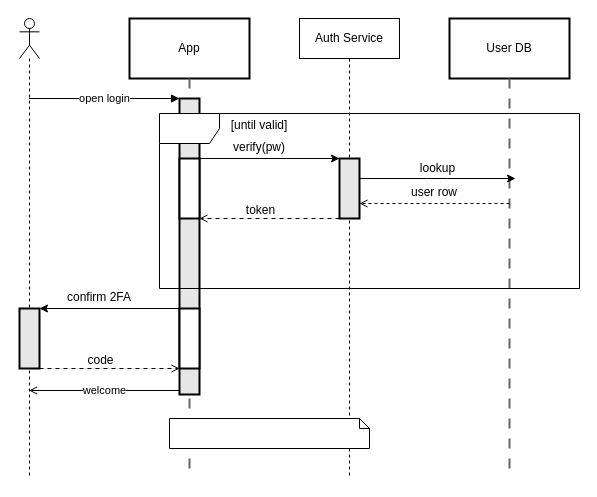
Some shapes in this 597 by 497 pixel diagram are drawn without their labels. Each missing label, with the box of its shape:
loop: (158, 112, 580, 288)
session stored: (168, 418, 370, 448)
User: (18, 18, 40, 478)
